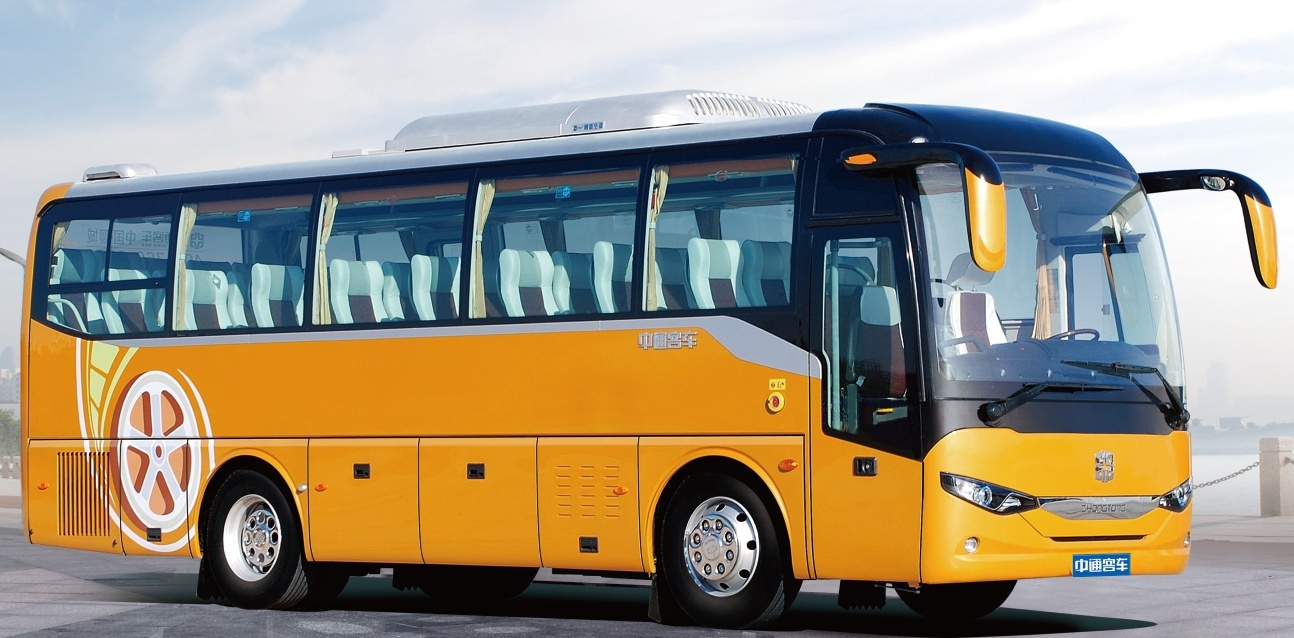bus: (22, 82, 1268, 609)
